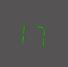one: (19, 18, 32, 46)
seven: (33, 19, 46, 48)
